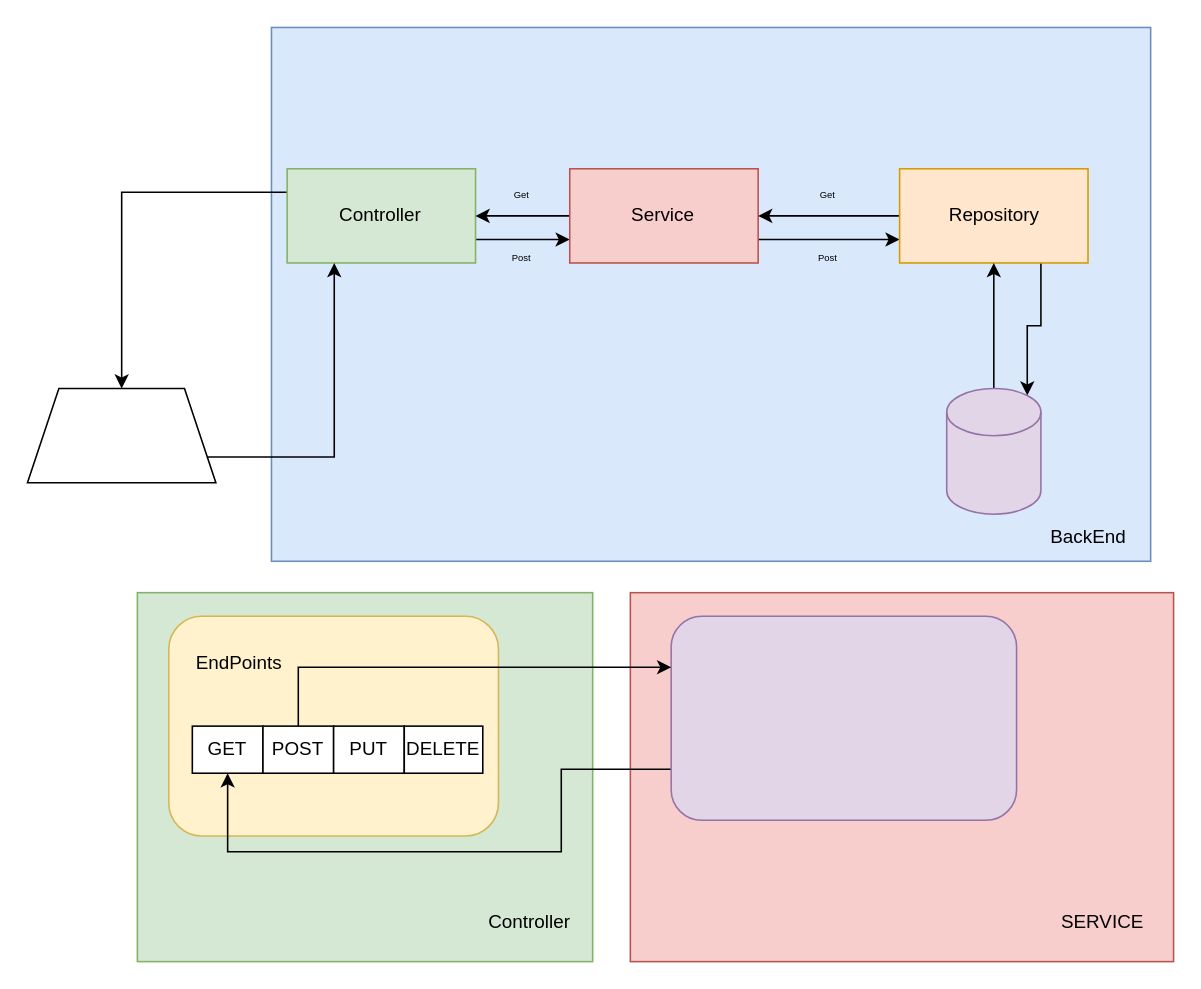
This 1201x989 diagram has some shape labels left out. The shapes that lost their labels are listed below. From the top down, each one's box as (x1, y1, x2, y2) in pixels, then its label:
(26, 387, 216, 483): FE (PostMan)
(945, 387, 1041, 514): DB
(670, 615, 1017, 820): Prelucrare date
